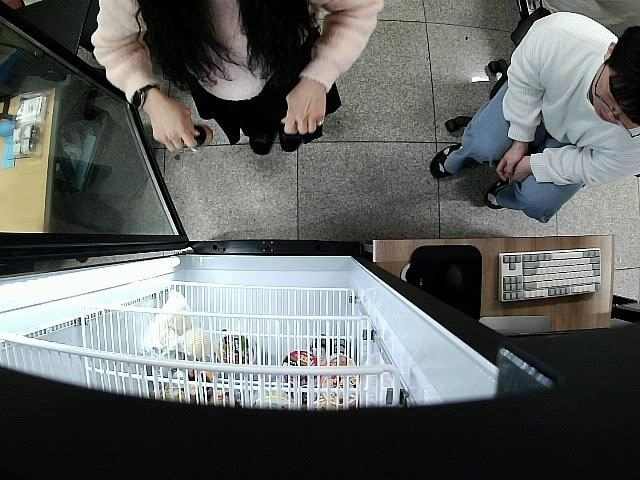17_vita500: (182, 124, 214, 150)
